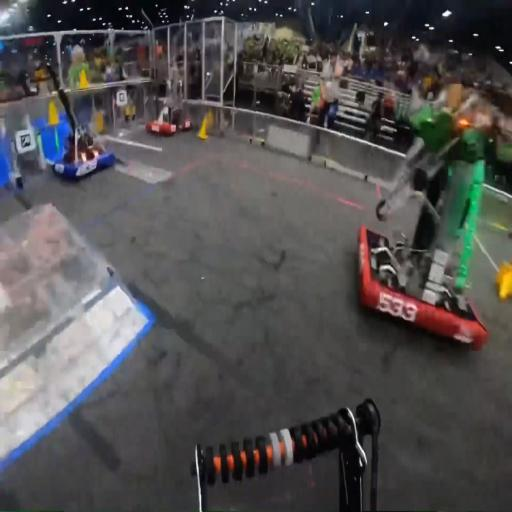robot: (357, 100, 494, 353), (46, 64, 116, 182), (144, 91, 192, 137)
